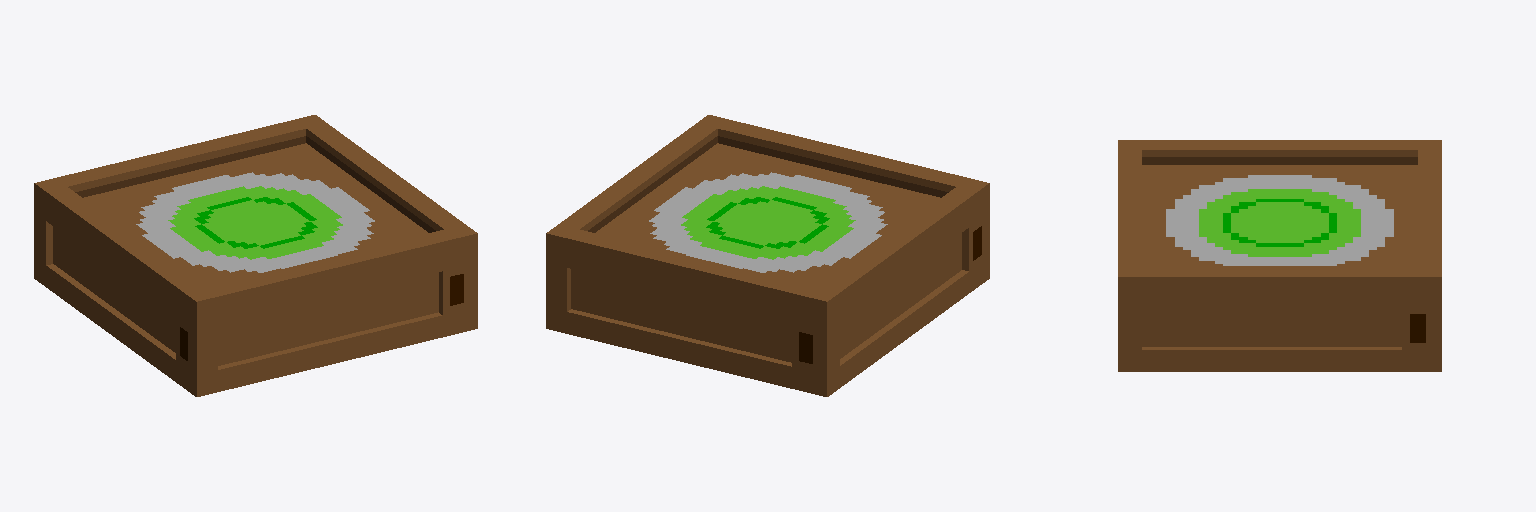
3 renders of one model, left to right at view 1: azimuth 30°, elevation 25°; view 2: azimuth 150°, elevation 25°; view 3: azimuth 270°, elevation 25°, orthographic.
Visible parts, largest first — view 1: object 1; view 2: object 1; view 3: object 1.
Boxes of the visible parts, x1=… form: object 1: x1=34, y1=115, x2=477, y2=396; object 1: x1=546, y1=115, x2=989, y2=396; object 1: x1=1118, y1=140, x2=1441, y2=371.
Bounding box in the file's own units: 4 × 1.3 × 4.
Materials: 1 (1 with a texture image).